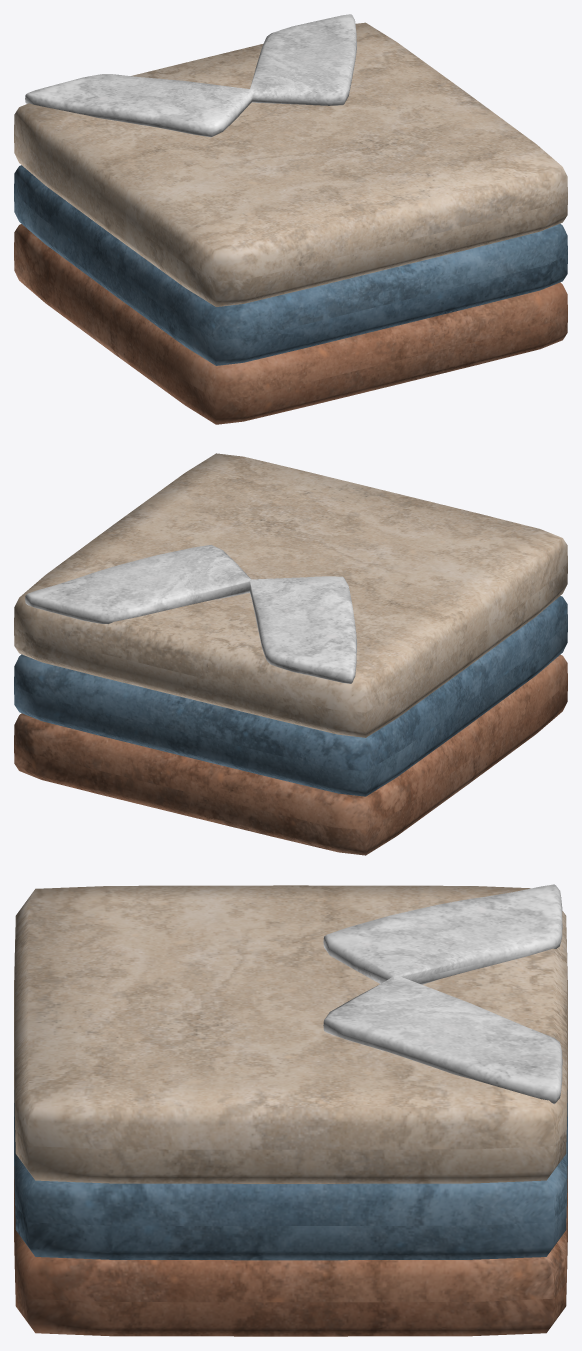
Rendered from Folded Clothes.fbx.
3 renders of one model, top to bottom at view 1: azimuth 30°, elevation 25°; view 2: azimuth 150°, elevation 25°; view 3: azimuth 270°, elevation 25°, orthographic. The views are drawn at different scales.
Parts seen in each view (by area): view 1: Cube.003; view 2: Cube.003; view 3: Cube.003.
Boxes of the visible parts, x1,y1,x2,y2 form: Cube.003: (14,14,567,424); Cube.003: (14,453,567,855); Cube.003: (14,884,567,1336).
Bounding box in the file's own units: 69.13 × 35.69 × 70.36.
Materials: 1 (1 with a texture image).
